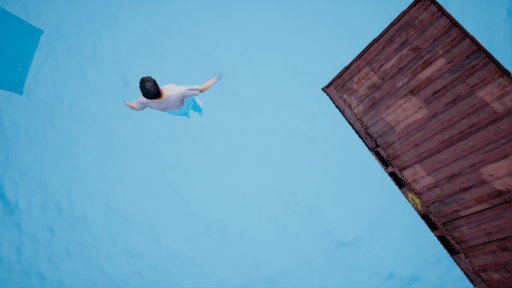person: (119, 73, 219, 127)
